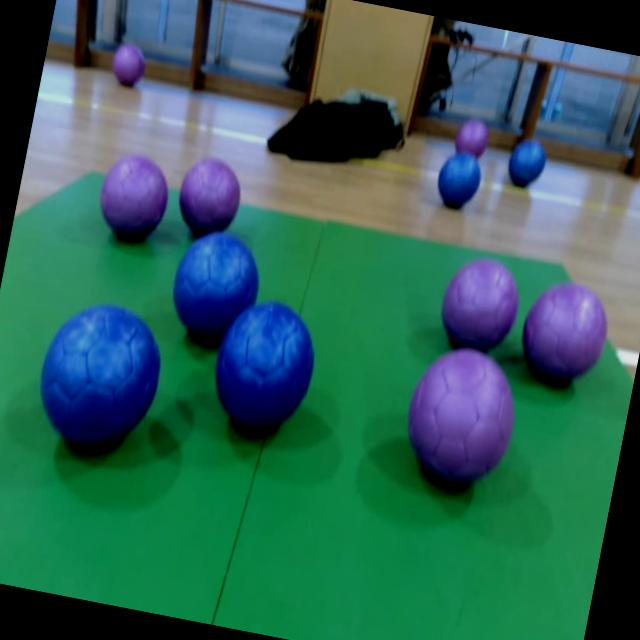blue_ball: (28, 295, 173, 466), (204, 296, 324, 442), (164, 224, 266, 351), (432, 150, 486, 214), (504, 133, 550, 190)
purple_ball: (396, 342, 530, 499), (434, 252, 527, 362), (518, 283, 612, 387), (91, 148, 176, 250), (174, 153, 246, 232), (110, 42, 149, 90), (456, 119, 491, 156)
